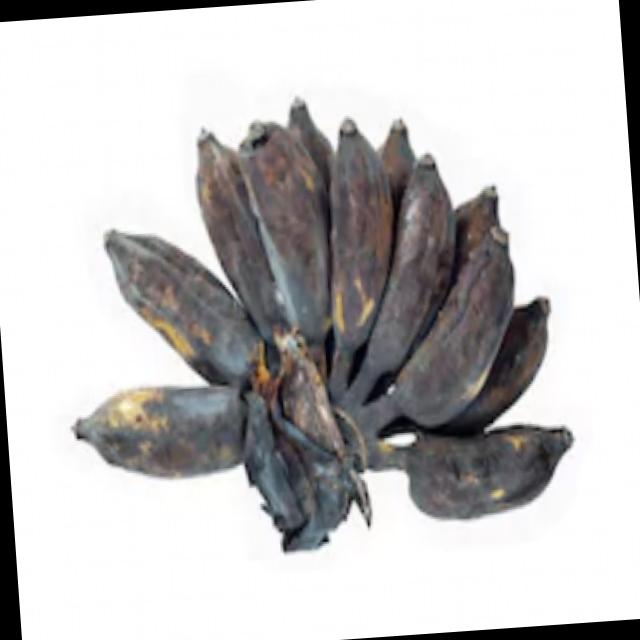rotten-banana: (51, 84, 574, 550)
